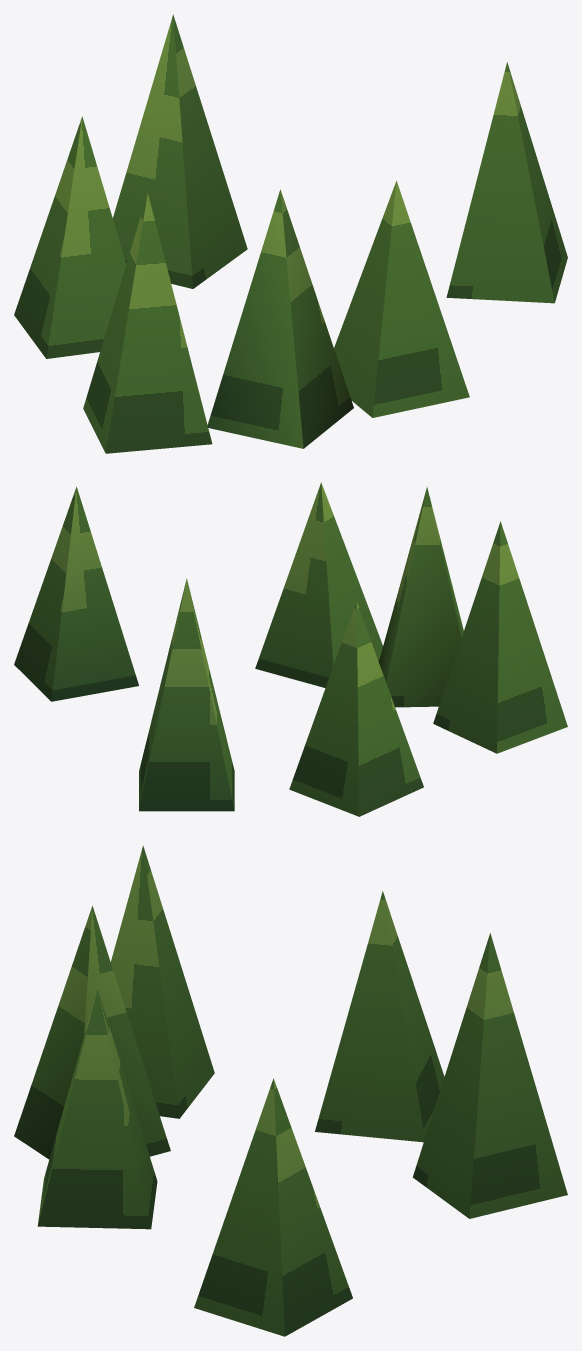
File: mnat.flowers__tufts.glb
The picture shows the model from 3 angles, top to bottom: view 1: azimuth 30°, elevation 25°; view 2: azimuth 150°, elevation 25°; view 3: azimuth 270°, elevation 25°; orthographic projection. The views are drawn at different scales.
Visible parts, largest first — view 1: kit_plants; view 2: kit_plants; view 3: kit_plants.
Boxes of the visible parts, x1,y1,x2,y2 form: kit_plants: (14, 14, 567, 453); kit_plants: (14, 482, 567, 816); kit_plants: (14, 845, 567, 1336).
Size of the model in its own units: 1.31 by 0.5569 by 1.1.
1 material, 1 textured.
